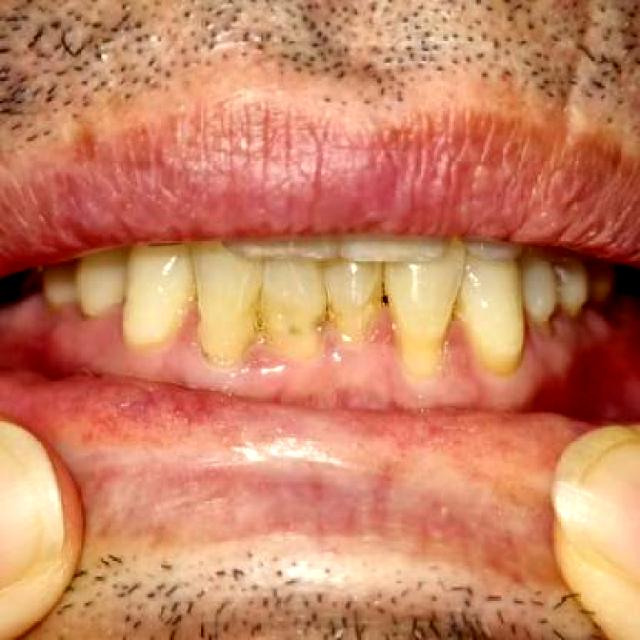Plaque: (173, 303, 608, 404), (11, 293, 198, 386)
